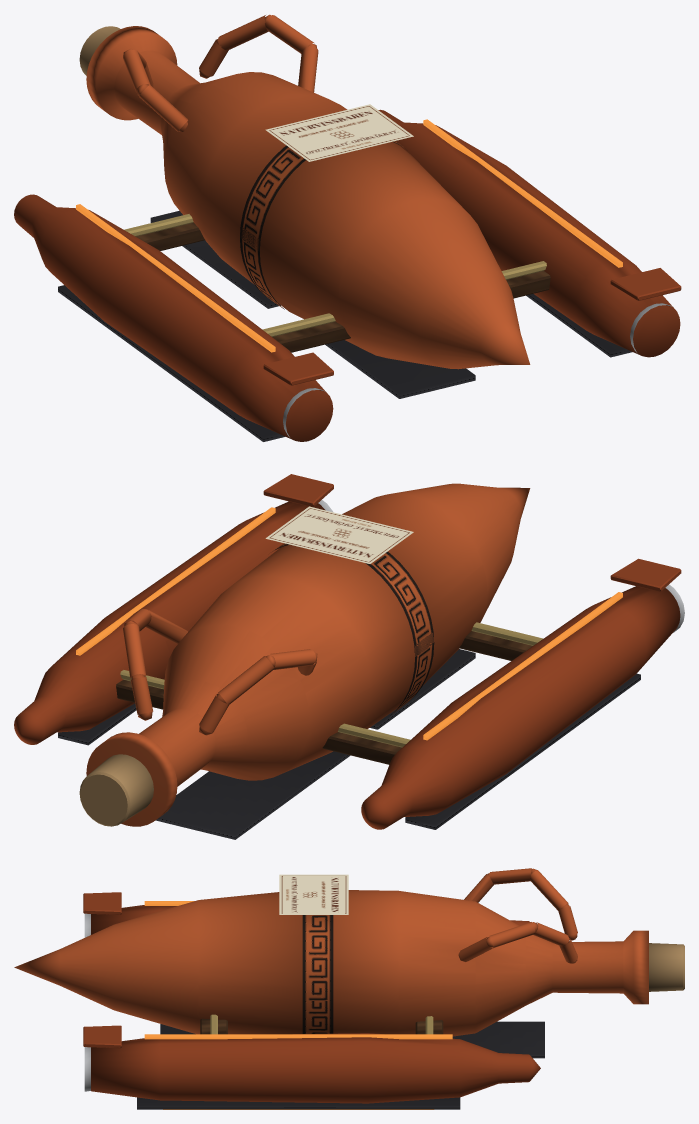
The model's file is craft_3.glb.
3 views of the same model, one above another, from view 1: azimuth 30°, elevation 25°; view 2: azimuth 150°, elevation 25°; view 3: azimuth 270°, elevation 25° (orthographic). The views are drawn at different scales.
Parts seen in each view (by area): view 1: craft_3_amphora, craft_3_pods, craft_3_hover, craft_3_yoke, craft_3_label, craft_3_band, flap_L_plate, flap_R_plate, craft_3_cork; view 2: craft_3_amphora, craft_3_pods, craft_3_hover, craft_3_yoke, craft_3_label, craft_3_cork, craft_3_band, flap_L_plate, flap_R_plate; view 3: craft_3_amphora, craft_3_pods, craft_3_hover, craft_3_band, craft_3_label, craft_3_cork, craft_3_yoke, flap_R_plate, flap_L_plate.
Boxes of the visible parts, left/top/right/bottom form: craft_3_amphora: left=86, top=14, right=530, bottom=369; craft_3_pods: left=14, top=109, right=680, bottom=441; craft_3_hover: left=58, top=210, right=632, bottom=441; craft_3_yoke: left=124, top=214, right=550, bottom=352; craft_3_label: left=265, top=104, right=413, bottom=161; craft_3_band: left=240, top=141, right=406, bottom=309; flap_L_plate: left=263, top=352, right=333, bottom=385; flap_R_plate: left=610, top=268, right=681, bottom=300; craft_3_cork: left=79, top=26, right=120, bottom=75; craft_3_amphora: left=86, top=483, right=530, bottom=826; craft_3_pods: left=14, top=500, right=684, bottom=829; craft_3_hover: left=58, top=649, right=640, bottom=839; craft_3_yoke: left=116, top=622, right=543, bottom=764; craft_3_label: left=265, top=506, right=413, bottom=563; craft_3_cork: left=79, top=754, right=153, bottom=826; craft_3_band: left=272, top=543, right=434, bottom=715; flap_L_plate: left=610, top=558, right=681, bottom=591; flap_R_plate: left=263, top=474, right=333, bottom=507; craft_3_amphora: left=14, top=868, right=648, bottom=1036; craft_3_pods: left=84, top=901, right=540, bottom=1103; craft_3_hover: left=137, top=1021, right=544, bottom=1109; craft_3_band: left=302, top=915, right=333, bottom=1033; craft_3_label: left=279, top=874, right=348, bottom=914; craft_3_cork: left=649, top=943, right=684, bottom=991; craft_3_yoke: left=200, top=1014, right=443, bottom=1034; flap_R_plate: left=83, top=1025, right=121, bottom=1048; flap_L_plate: left=83, top=892, right=121, bottom=914.
Size of the model in its own units: 5.02 by 2.12 by 8.72.
11 materials, 3 textured.
